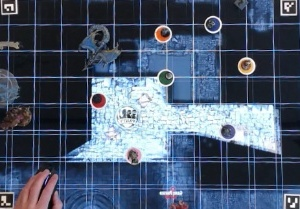blue: (205, 15, 225, 35)
green: (156, 66, 174, 87)
orange: (151, 25, 174, 42)
pink: (123, 144, 144, 166)
red: (88, 90, 107, 108)
violet: (219, 122, 238, 141)
yellow: (234, 55, 258, 75)
